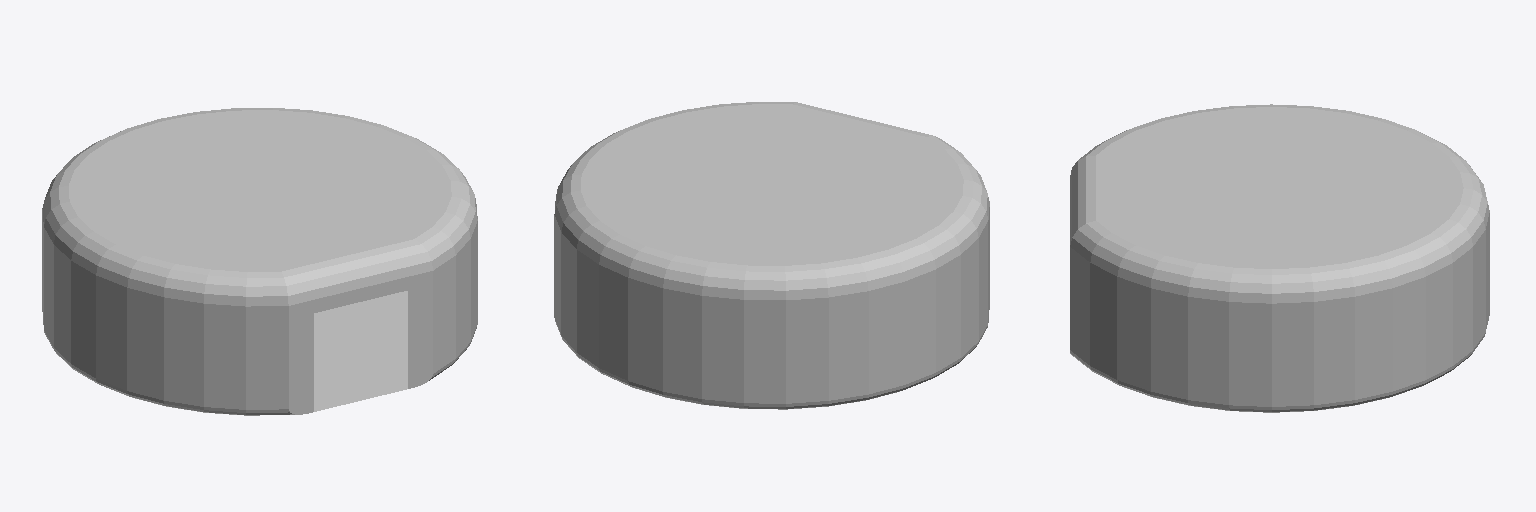
Rendered from StartRoom.obj.
3 views of the same model, side by side, from view 1: azimuth 30°, elevation 25°; view 2: azimuth 150°, elevation 25°; view 3: azimuth 270°, elevation 25° (orthographic).
Parts seen in each view (by area): view 1: StartRoom_Cylinder; view 2: StartRoom_Cylinder; view 3: StartRoom_Cylinder.
Boxes of the visible parts, x1=… form: StartRoom_Cylinder: x1=42, y1=108, x2=477, y2=415; StartRoom_Cylinder: x1=554, y1=102, x2=989, y2=409; StartRoom_Cylinder: x1=1070, y1=104, x2=1489, y2=412.
Bounding box in the file's own units: 16 × 5.5 × 15.39.